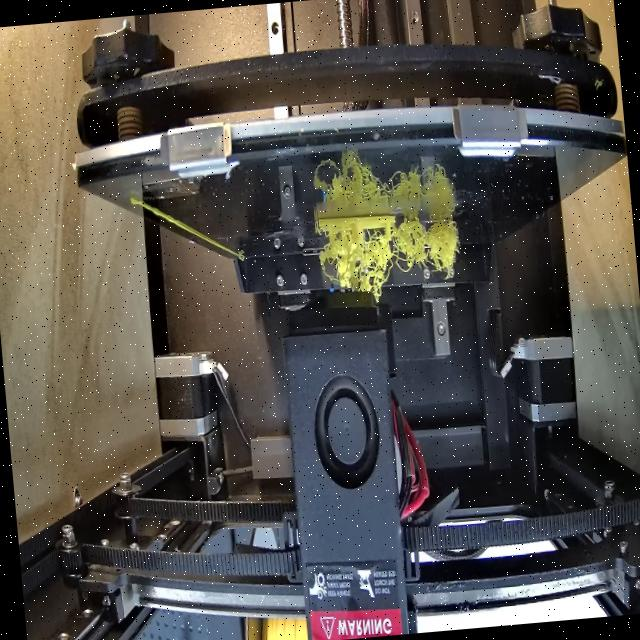spaghetti: (311, 214, 460, 308)
